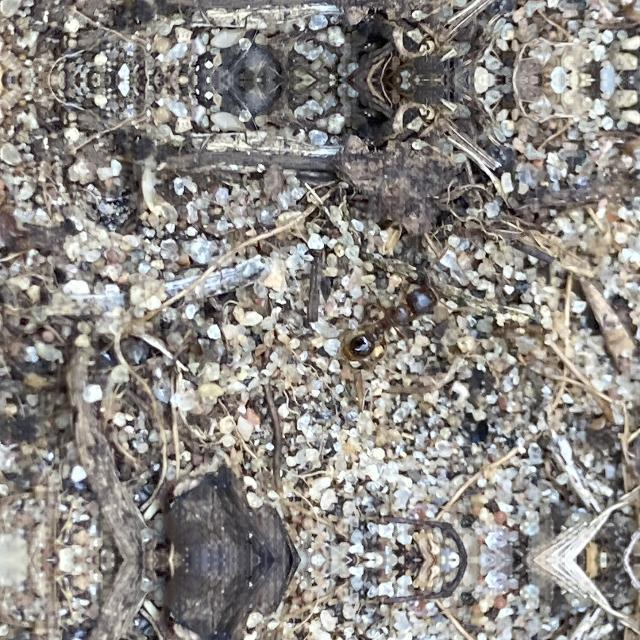Temnothorax: (320, 261, 466, 391)
